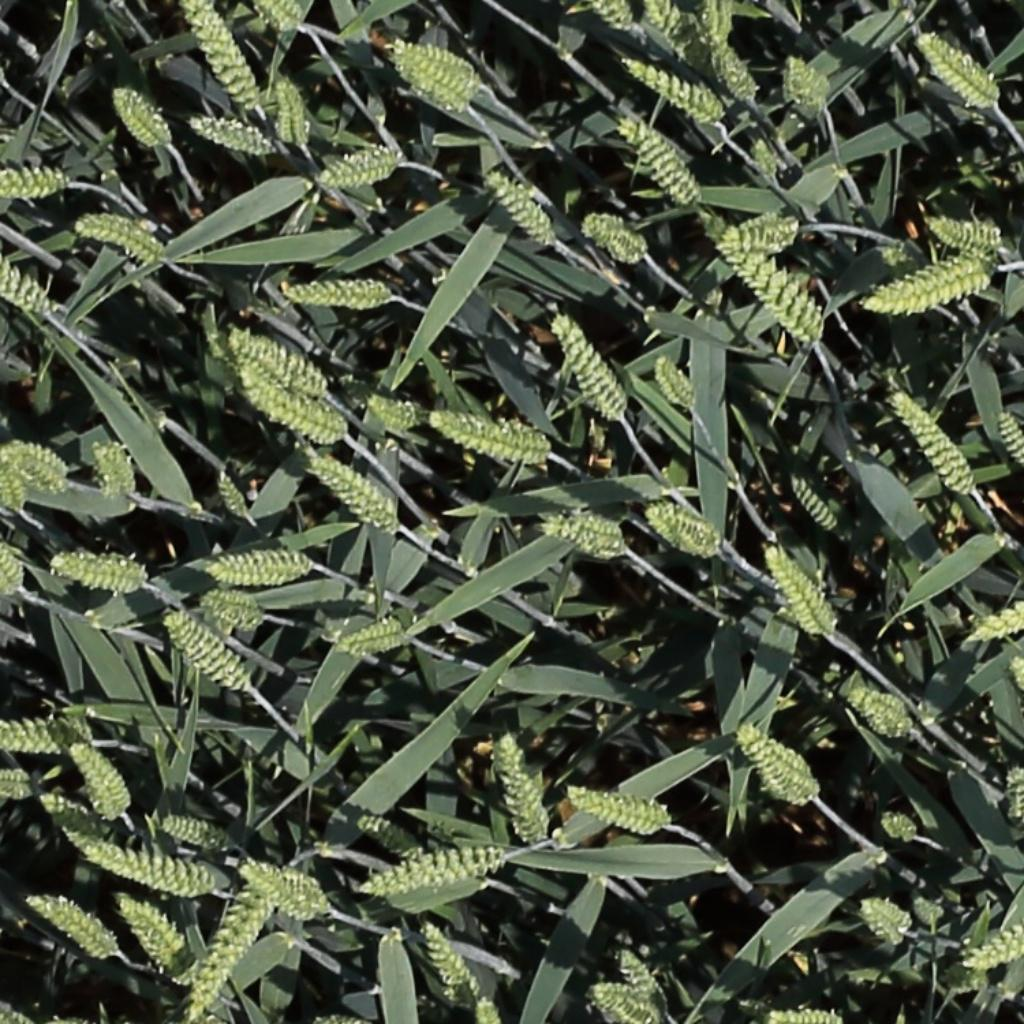0-0: (185, 876, 278, 1017), (716, 228, 827, 342), (859, 242, 1009, 322), (890, 383, 978, 498), (548, 304, 630, 420), (182, 2, 263, 116), (358, 845, 512, 901), (69, 841, 219, 897), (618, 110, 704, 206), (764, 539, 841, 641), (163, 608, 252, 696), (564, 781, 678, 845), (309, 453, 397, 531), (241, 374, 345, 439), (417, 914, 486, 1011), (495, 733, 550, 851), (116, 894, 188, 983), (918, 31, 1000, 107), (428, 410, 550, 460), (484, 166, 559, 245), (626, 57, 723, 118), (229, 330, 326, 391), (25, 894, 117, 957), (192, 546, 322, 590), (737, 729, 816, 800), (701, 17, 763, 107), (281, 274, 405, 317), (0, 219, 54, 316), (68, 740, 131, 823), (394, 50, 469, 111), (241, 862, 315, 922), (0, 713, 96, 759), (110, 83, 172, 150), (42, 795, 120, 847), (75, 215, 166, 258), (787, 471, 846, 537), (648, 506, 719, 554), (651, 348, 701, 415), (785, 49, 832, 120), (187, 114, 275, 151), (617, 943, 667, 1007), (543, 517, 626, 555), (92, 435, 136, 503), (51, 555, 144, 587), (211, 461, 255, 525), (585, 214, 649, 258), (0, 453, 68, 494), (645, 1, 694, 57), (851, 689, 913, 733), (357, 815, 420, 858), (277, 866, 333, 914), (959, 932, 1024, 973), (274, 69, 308, 147), (158, 817, 236, 851), (0, 162, 66, 201), (928, 215, 1003, 249), (318, 150, 401, 180), (0, 443, 68, 479), (593, 985, 659, 1021), (992, 404, 1024, 475), (749, 129, 787, 188), (733, 219, 802, 251), (864, 899, 913, 940), (0, 446, 27, 518), (972, 606, 1024, 641), (337, 626, 409, 651), (365, 395, 425, 425), (200, 596, 262, 625), (1003, 750, 1024, 834), (0, 525, 23, 592), (595, 1, 640, 35), (0, 767, 46, 799), (910, 892, 948, 929), (258, 0, 300, 32), (882, 813, 921, 845), (472, 988, 502, 1024), (0, 1003, 27, 1024)
